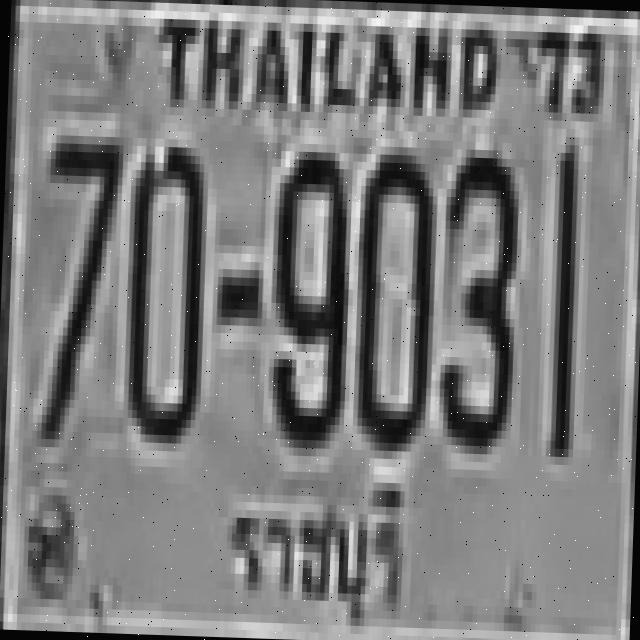0: (348, 146, 434, 444), (123, 137, 205, 436)
1: (546, 140, 578, 453)
3: (432, 140, 516, 447)
7: (36, 122, 120, 436), (38, 126, 119, 392)
9: (266, 142, 348, 440)
Ratchaburi: (218, 465, 412, 631)
